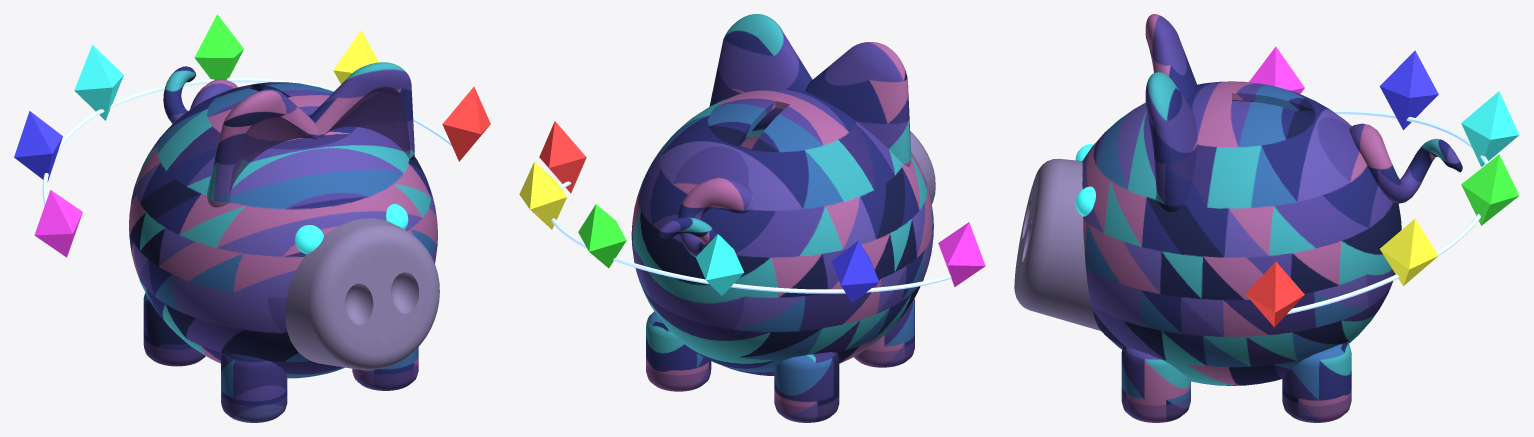
Rendered from prismatic-og-v1-complete.fbx.
3 renders of one model, left to right at view 1: azimuth 30°, elevation 25°; view 2: azimuth 150°, elevation 25°; view 3: azimuth 270°, elevation 25°, orthographic. The views are drawn at different scales.
Parts seen in each view (by area): view 1: Body, Snout, Ears, Legs, OrbitPrism_3, OrbitPrism_4, OrbitPrism_2, OrbitPrism_5, OrbitPrism_0, Tail, PrismaticOrbitArc, OrbitPrism_1 (+1 smaller); view 2: Body, Ears, Legs, Tail, OrbitPrism_5, OrbitPrism_2, OrbitPrism_1, OrbitPrism_0, OrbitPrism_3, PrismaticOrbitArc, OrbitPrism_4, Snout; view 3: Body, Snout, Legs, Ears, Tail, OrbitPrism_4, OrbitPrism_3, OrbitPrism_2, OrbitPrism_1, OrbitPrism_0, PrismaticOrbitArc, OrbitPrism_5 (+1 smaller).
Boxes of the visible parts, x1,y1,x2,y2 form: Body: (129,82,437,378); Snout: (285,218,439,370); Ears: (207,62,414,207); Legs: (143,293,418,422); OrbitPrism_3: (74,45,123,120); OrbitPrism_4: (14,111,62,181); OrbitPrism_2: (194,14,243,79); OrbitPrism_5: (34,190,82,257); OrbitPrism_0: (442,86,490,161); Tail: (163,66,237,123); PrismaticOrbitArc: (42,77,451,205); OrbitPrism_1: (333,30,379,84); Body: (631,89,933,375); Ears: (709,14,911,166); Legs: (646,299,914,422); Tail: (657,177,754,257); OrbitPrism_5: (938,222,985,286); OrbitPrism_2: (578,204,626,268); OrbitPrism_1: (519,161,566,229); OrbitPrism_0: (539,121,586,193); OrbitPrism_3: (696,234,744,295); PrismaticOrbitArc: (551,181,951,293); OrbitPrism_4: (831,240,878,302); Snout: (910,131,935,203); Body: (1082,81,1401,385); Snout: (1014,158,1101,331); Legs: (1121,342,1351,422); Ears: (1145,14,1197,211); Tail: (1349,123,1462,203); OrbitPrism_4: (1379,50,1438,130); OrbitPrism_3: (1461,91,1519,166); OrbitPrism_2: (1461,154,1519,225); OrbitPrism_1: (1380,218,1438,285); OrbitPrism_0: (1245,261,1304,327); PrismaticOrbitArc: (1287,109,1488,314); OrbitPrism_5: (1249,46,1304,93).
Bounding box in the file's own units: 2088 × 1397 × 1924.
10 materials, 2 textured.
